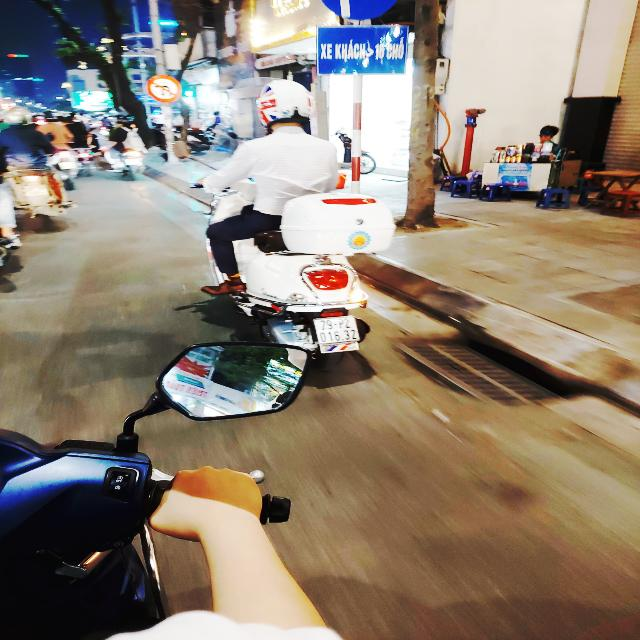license_plate: (308, 314, 366, 349)
